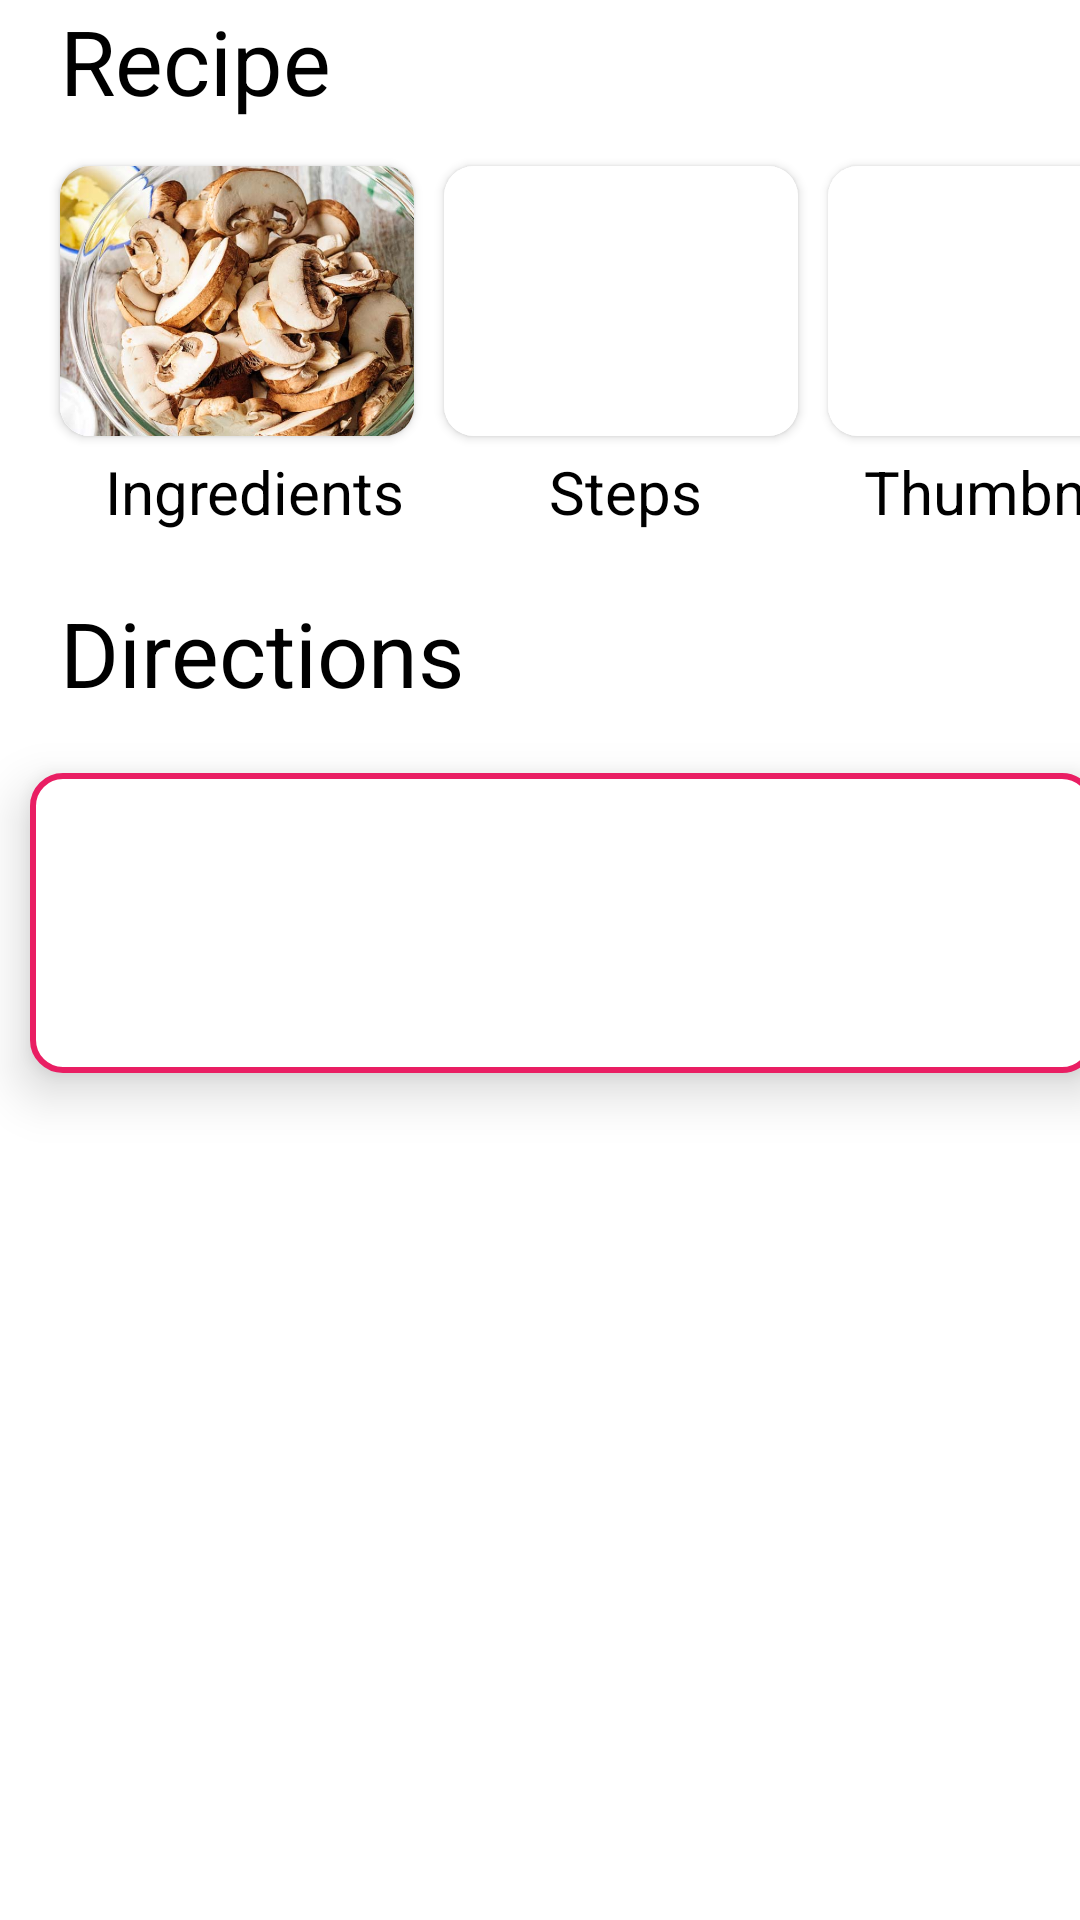

Screen size 1080px×1920px. Icon name, then its center in pixels as (x,y):
mashroom: (237,301)
